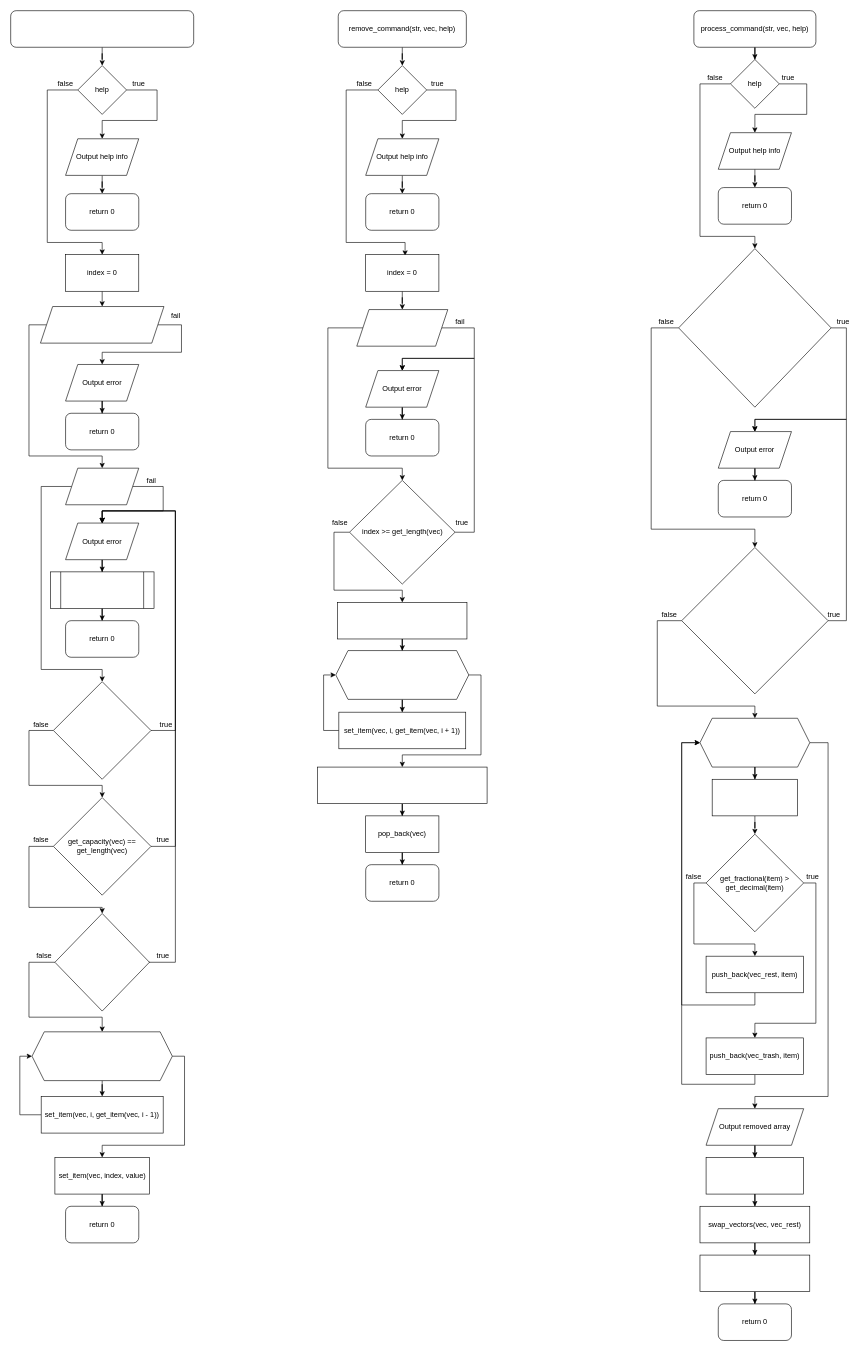
This 866x1351 diagram has some shape labels left out. Each missing label, with the box of its shape:
create(&vec_rest, get_capacity(vec)): (681, 547, 828, 694)
create(&vec_trash, get_capacity(vec)): (678, 248, 831, 407)
destroy_rational(value): (50, 571, 154, 608)
destroy_reference(vec_rest): (699, 1254, 810, 1292)
destroy_vector(vec_trash): (705, 1157, 804, 1194)
i = 0; i < get_length(vec); i++: (699, 718, 810, 767)
i = get_length(vec) - 1; i > index; i--: (31, 1031, 172, 1081)
i = index; i < get_length(vec) - 1; i++: (335, 650, 469, 699)
index > get_length(vec): (53, 681, 151, 779)
Input index: (356, 309, 448, 346)
Input index and number of read characters as offset: (40, 306, 164, 343)
Input value: (65, 468, 139, 505)
insert_command(str, vec, help): (10, 10, 194, 47)
item = get_item(vec, i): (712, 779, 798, 816)
push_back(vec, NULL): (54, 913, 149, 1011)
removed_item = get_item(vec, index): (337, 602, 467, 639)
set_item(vec, get_length(vec) - 1, removed_item): (317, 766, 487, 804)
